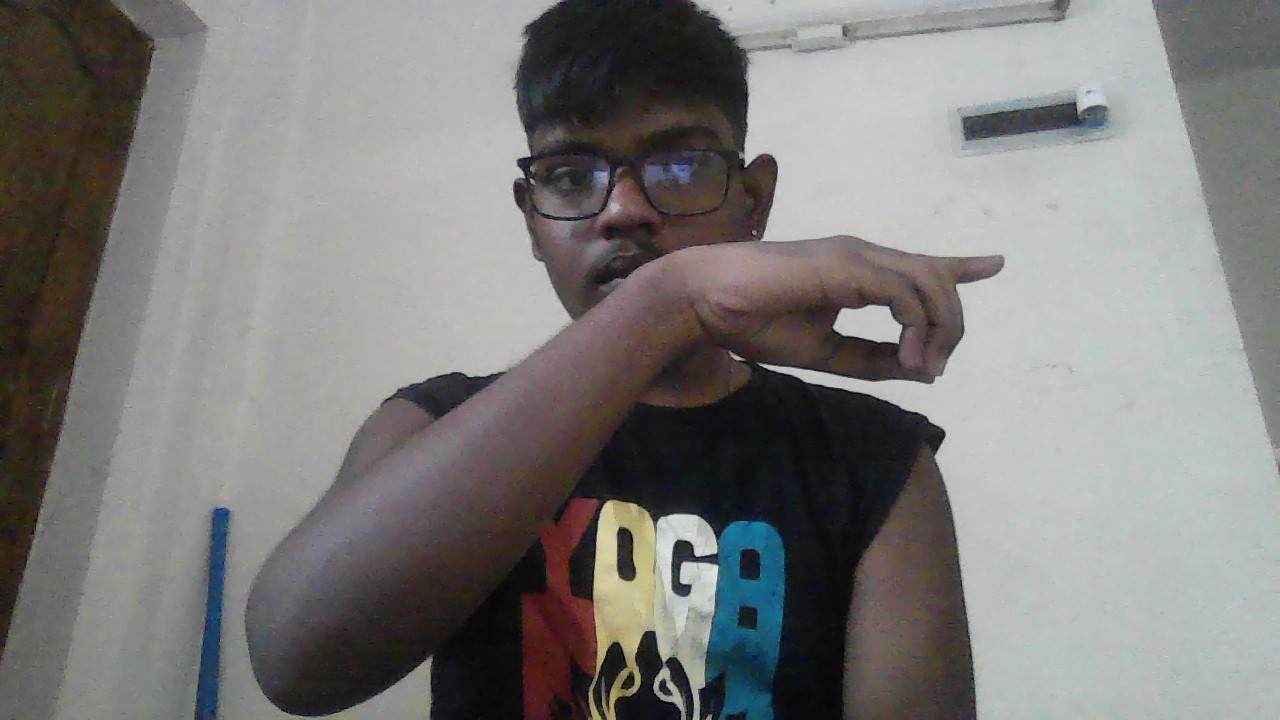P: (661, 236, 1004, 384)
